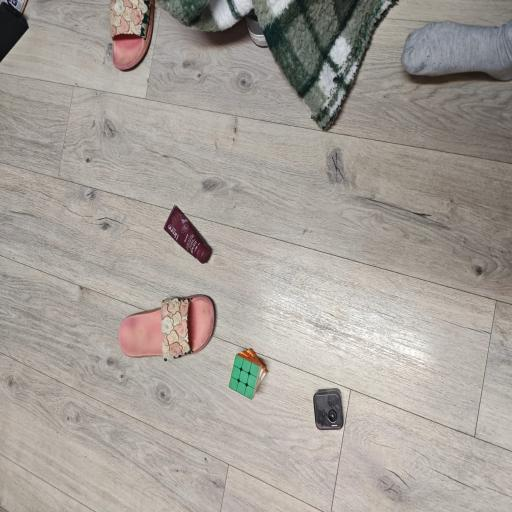Crema Maini: (164, 204, 214, 265)
Rubiks Cube: (227, 348, 267, 402)
